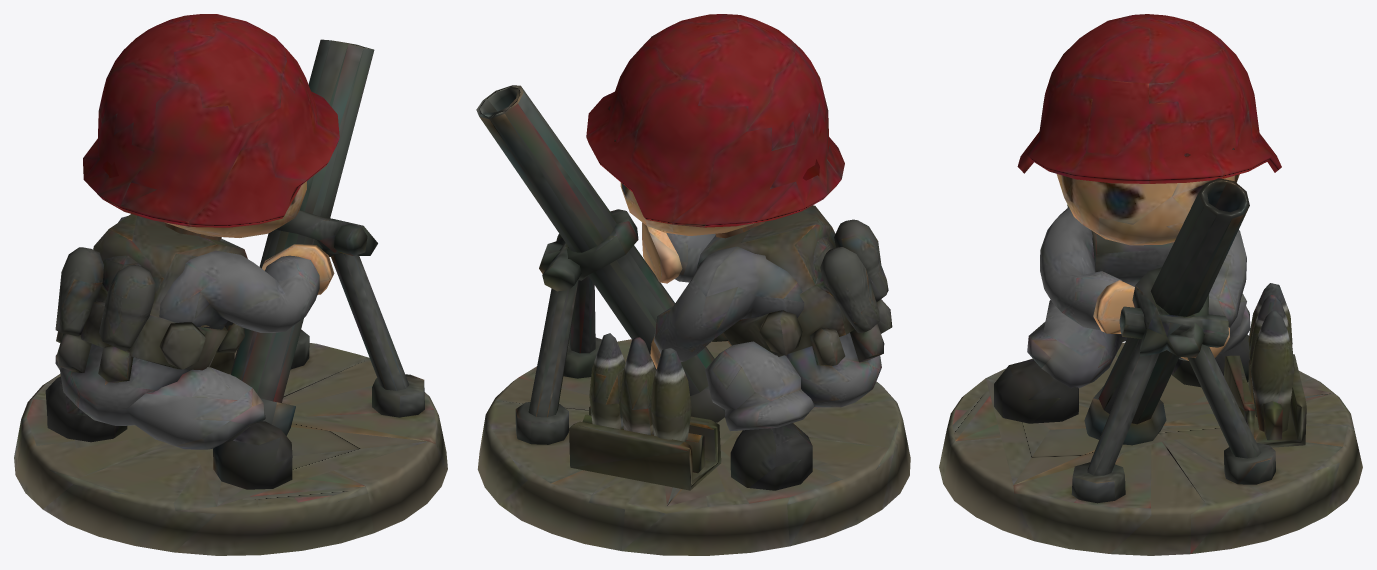
File: mortar_team.glb
The picture shows the model from 3 angles, left to right: view 1: azimuth 30°, elevation 25°; view 2: azimuth 150°, elevation 25°; view 3: azimuth 270°, elevation 25°; orthographic projection. The views are drawn at different scales.
Parts seen in each view (by area): view 1: hull; view 2: hull; view 3: hull.
Part boxes in pixels (<box>): hull: <box>14,14,447,555</box>; hull: <box>476,14,910,555</box>; hull: <box>939,14,1362,555</box>.
Size of the model in its own units: 0.8866 by 1 by 0.893.
1 material, 1 textured.
